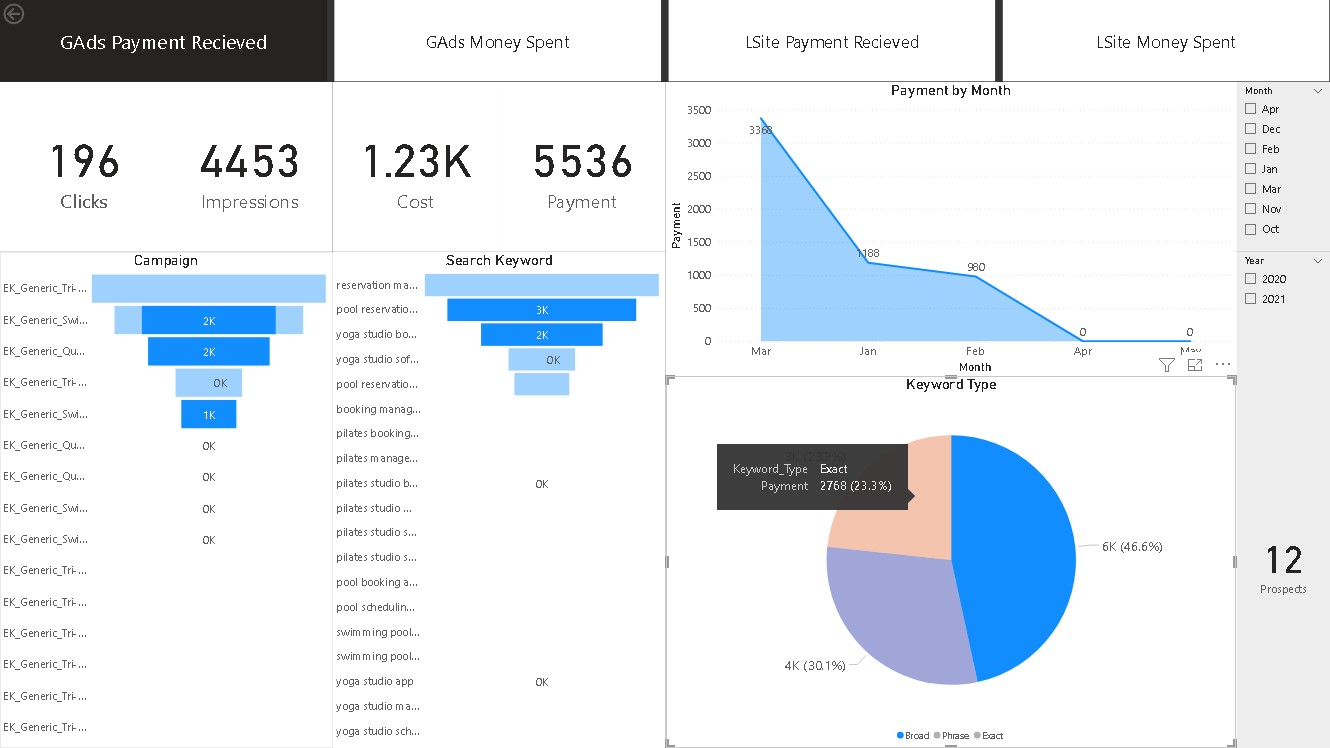

What the dashboard file says about the page in this screenshot:
{"tool":"powerbi","page":{"name":"GAds Payment Recieved","canvas":[1920,1080],"ordinal":0},"visuals":[{"type":"card","fields":{"Values":["Sum(clean_google_ads.Impressions)"]},"box":[240.7,118.2,239.3,245.1],"z":0},{"type":"card","fields":{"Values":["Sum(clean_google_ads.Cost)"]},"box":[480,118.2,237.8,245.1],"z":1000},{"type":"card","fields":{"Values":["Sum(clean_google_ads.Payment)"]},"box":[717.8,118.2,242.2,245.1],"z":2000},{"type":"funnel","title":"Campaign","fields":{"Category":["clean_google_ads.Campaign"],"Y":["Sum(clean_google_ads.Payment)"]},"box":[0,363.3,480,716.4],"z":3000},{"type":"pageNavigator","box":[0,0,1920,118.2],"z":4000},{"type":"funnel","title":"Search Keyword","fields":{"Category":["clean_google_ads.Search_Keyword"],"Y":["Sum(clean_google_ads.Payment)"]},"box":[480,363.3,480,716.4],"z":5000},{"type":"pieChart","title":"Keyword Type","fields":{"Category":["clean_google_ads.Keyword_Type"],"Y":["Sum(clean_google_ads.Payment)"]},"box":[960,542.7,822.9,536.9],"z":6000},{"type":"slicer","fields":{"Values":["clean_listing_site.Month"]},"box":[1782.9,118.2,137.1,245.1],"z":7000},{"type":"card","fields":{"Values":["Sum(clean_google_ads.Clicks)"]},"box":[0,118.2,240.7,245.1],"z":8000},{"type":"actionButton","box":[0,0,100,40],"z":9000},{"type":"slicer","fields":{"Values":["clean_listing_site.Year"]},"box":[1782.9,363.3,137.1,179.5],"z":10000},{"type":"areaChart","fields":{"Y":["Sum(clean_google_ads.Payment)"],"Category":["clean_google_ads.Month"]},"box":[960,118.2,822.9,424.6],"z":11000},{"type":"card","fields":{"Values":["Sum(clean_google_ads.Prospects)"]},"box":[1782.9,542.7,137.1,536.9],"z":12000}]}

Visuals, with their boxes on the page's 1920x1080 design canvas (x1, y1, x2, y2). These are canvas units, not pixel positions in the 1330x748 screenshot, which may show the page scaled, cropped or inside an application window:
card - Sum(clean_google_ads.Impressions): (x1=241, y1=118, x2=480, y2=363)
card - Sum(clean_google_ads.Cost): (x1=480, y1=118, x2=718, y2=363)
card - Sum(clean_google_ads.Payment): (x1=718, y1=118, x2=960, y2=363)
"Campaign" funnel: (x1=0, y1=363, x2=480, y2=1080)
pageNavigator: (x1=0, y1=0, x2=1920, y2=118)
"Search Keyword" funnel: (x1=480, y1=363, x2=960, y2=1080)
"Keyword Type" pieChart: (x1=960, y1=543, x2=1783, y2=1080)
slicer - clean_listing_site.Month: (x1=1783, y1=118, x2=1920, y2=363)
card - Sum(clean_google_ads.Clicks): (x1=0, y1=118, x2=241, y2=363)
actionButton: (x1=0, y1=0, x2=100, y2=40)
slicer - clean_listing_site.Year: (x1=1783, y1=363, x2=1920, y2=543)
areaChart - Sum(clean_google_ads.Payment) x clean_google_ads.Month: (x1=960, y1=118, x2=1783, y2=543)
card - Sum(clean_google_ads.Prospects): (x1=1783, y1=543, x2=1920, y2=1080)
